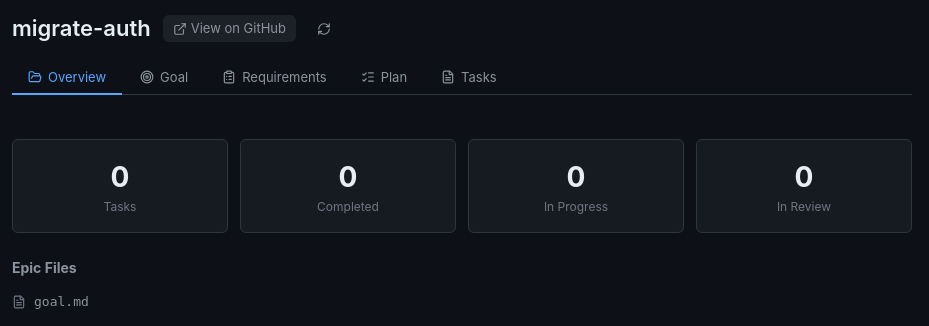
EpicDetail › switches to goal tab
What coordinates should you click on to do the following:
click the button with test id "tab-goal"
I would click on:
 (164, 78)
Its box is [124, 61, 204, 95].
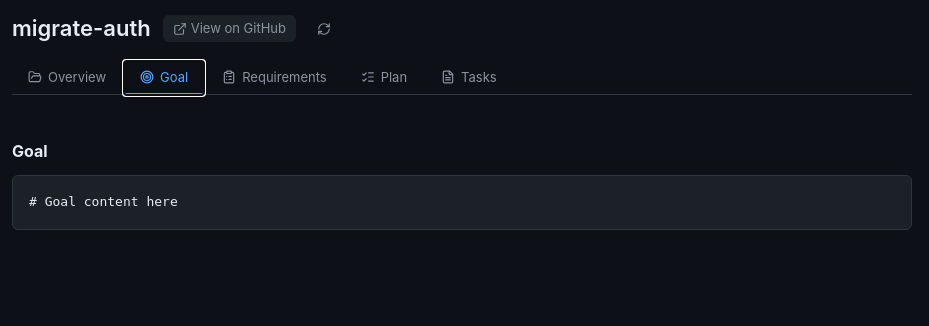
Expected: the text "# Goal content here" is shown, [12, 175, 912, 230]
